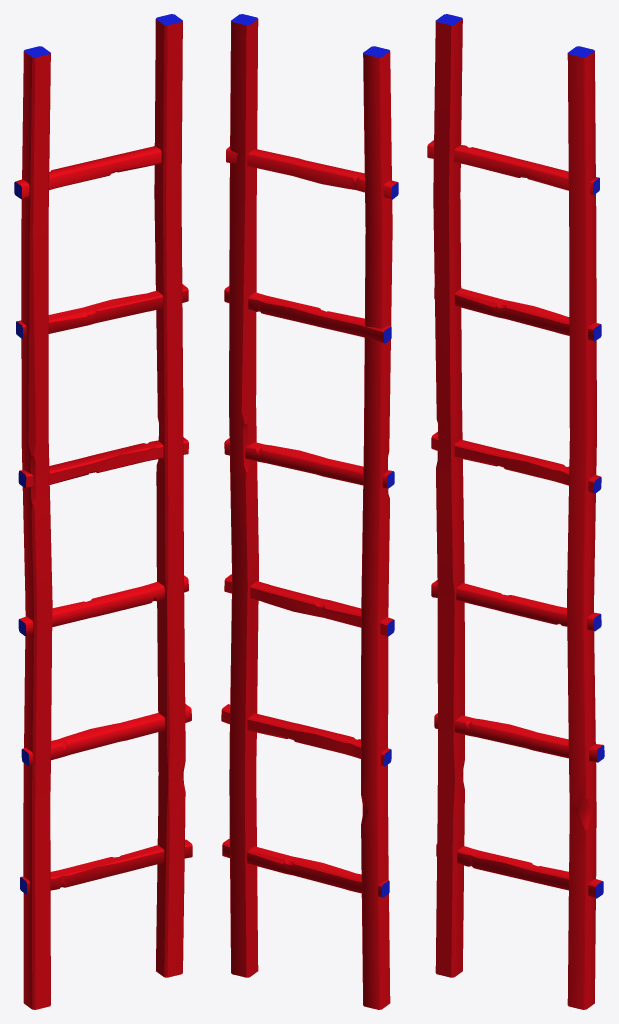
The model's file is Ladder.fbx.
3 renders of one model, left to right at view 1: azimuth 30°, elevation 25°; view 2: azimuth 150°, elevation 25°; view 3: azimuth 330°, elevation 25°, orthographic.
Visible parts, largest first — view 1: Ladder; view 2: Ladder; view 3: Ladder.
Boxes of the visible parts, x1,y1,x2,y2 form: Ladder: [14, 14, 192, 1009]; Ladder: [221, 14, 398, 1009]; Ladder: [427, 14, 604, 1009].
Size of what is drawn, in the model's own units: 0.5041 by 2.69 by 0.0695.
